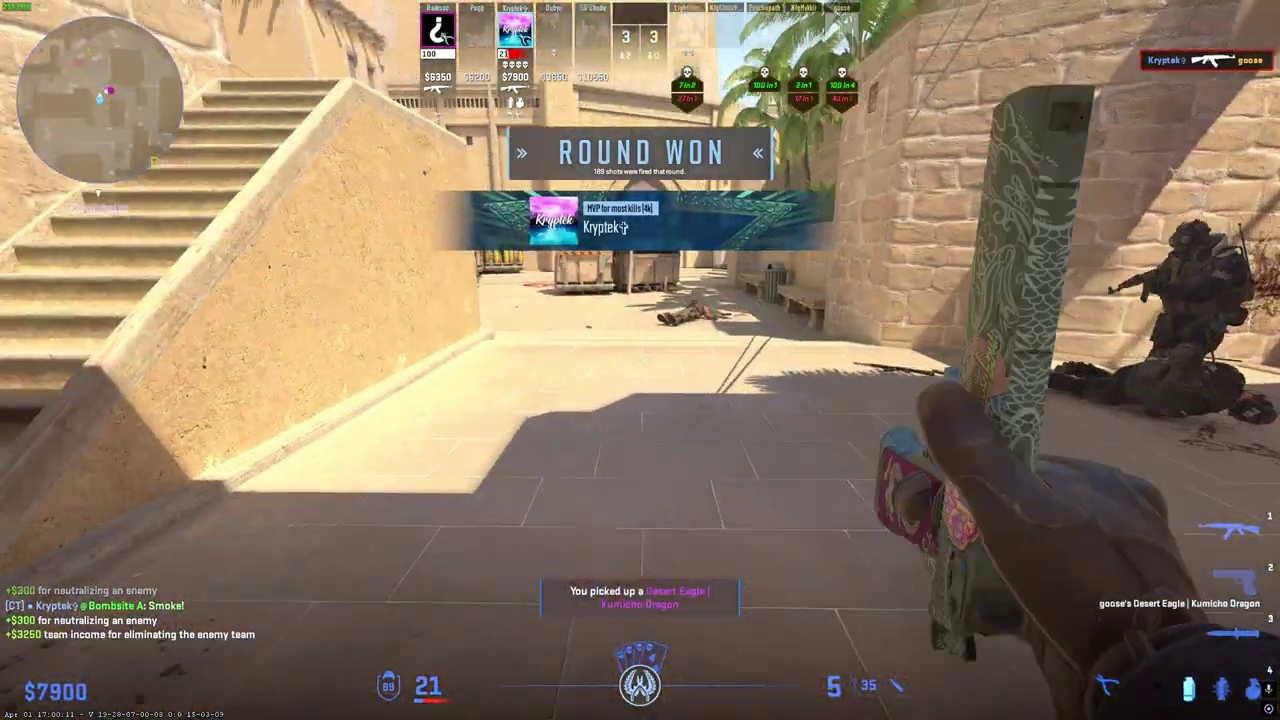CT: (1144, 219, 1254, 417)
